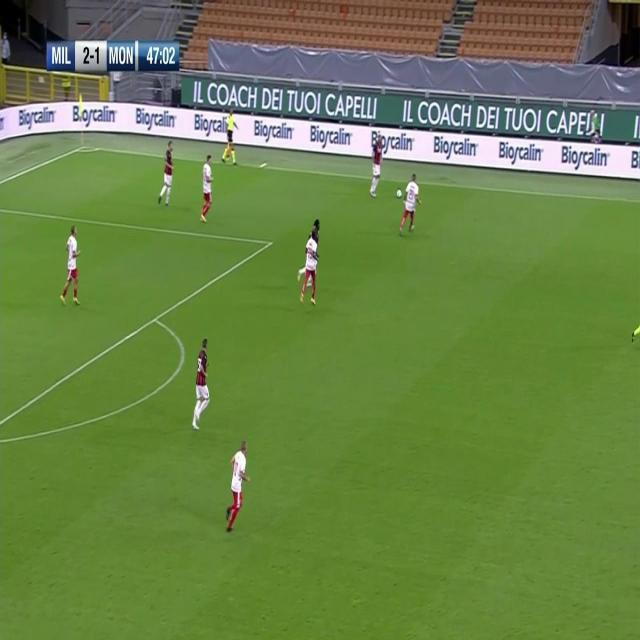ball: (395, 187, 403, 199)
player: (223, 441, 251, 534), (190, 336, 212, 432), (297, 224, 321, 310), (59, 224, 83, 308), (398, 172, 422, 235), (157, 140, 175, 208), (199, 153, 215, 225), (221, 106, 239, 166), (368, 130, 383, 197)
